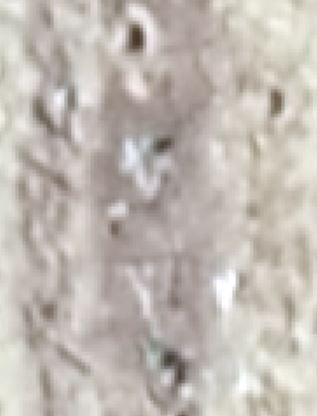cotton: (151, 349, 164, 367), (141, 138, 155, 152)
